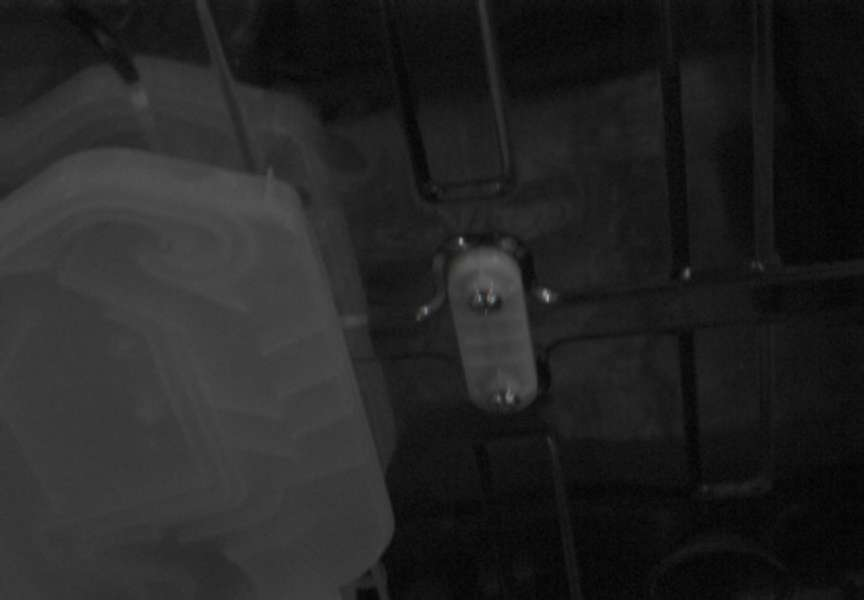screw: (469, 288, 502, 314), (490, 387, 520, 412)
